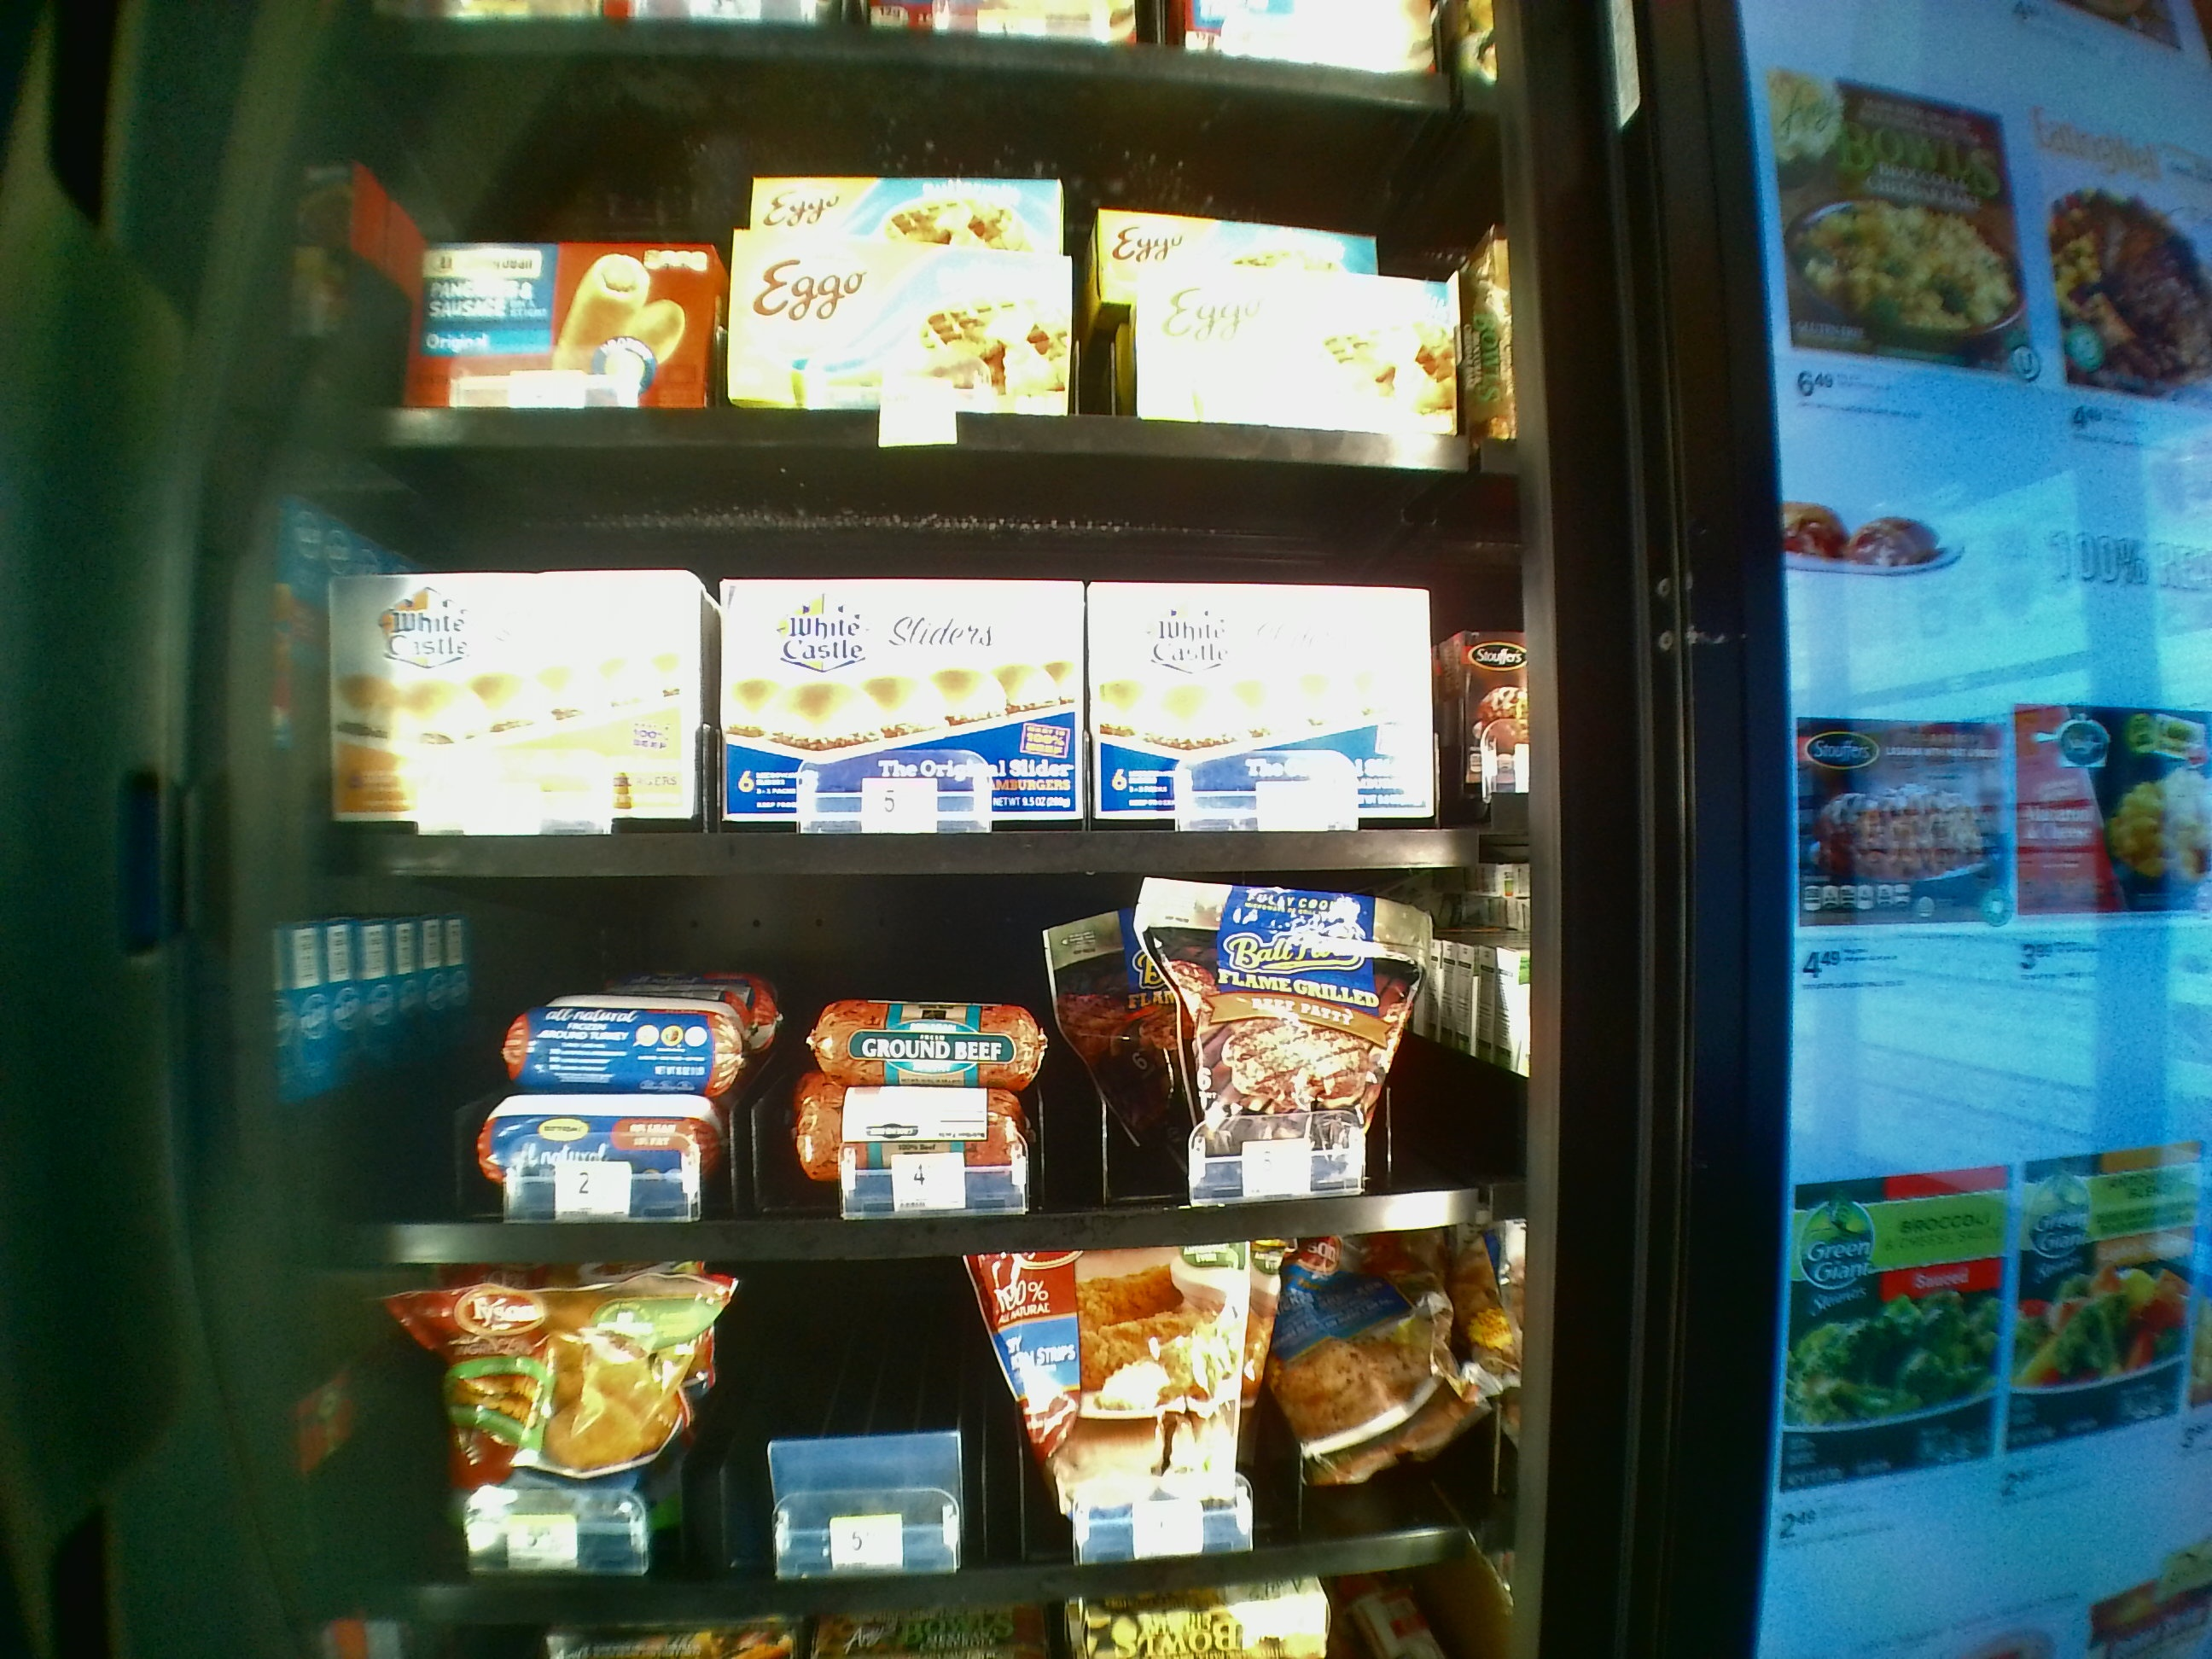shelf: (310, 59, 1491, 472), (303, 877, 1531, 1263), (301, 483, 1524, 864)
